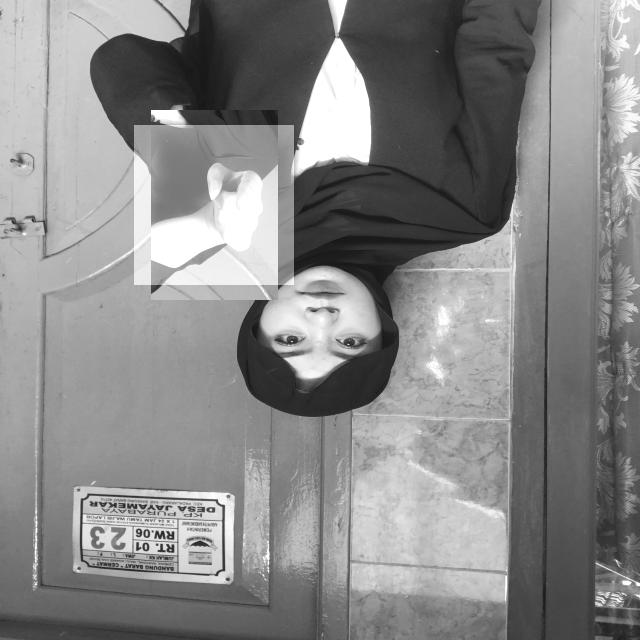kamu: (134, 125, 294, 285)
